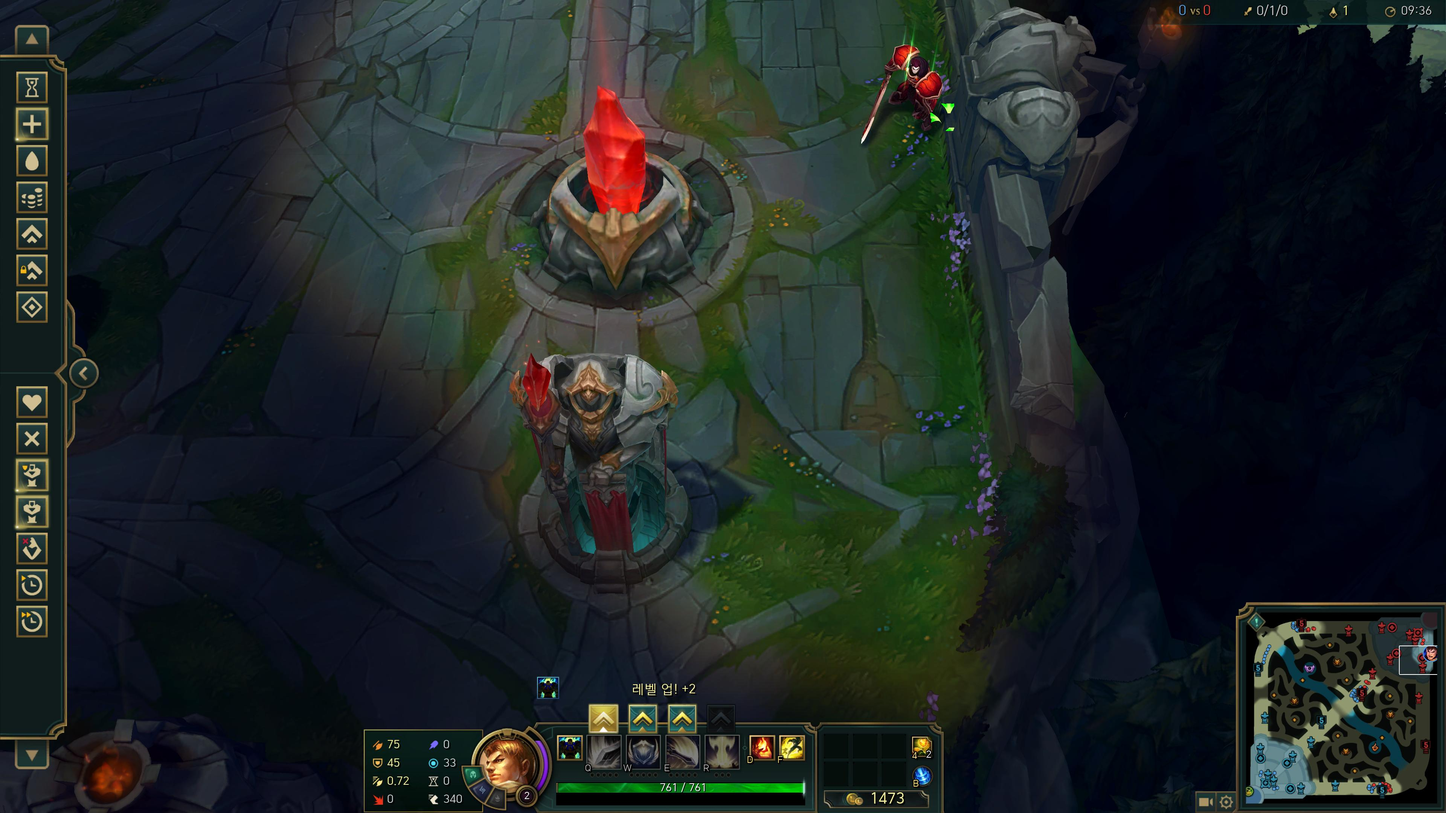enemy-inhibitor: (488, 84, 752, 327)
enemy-tower: (509, 352, 691, 615)
